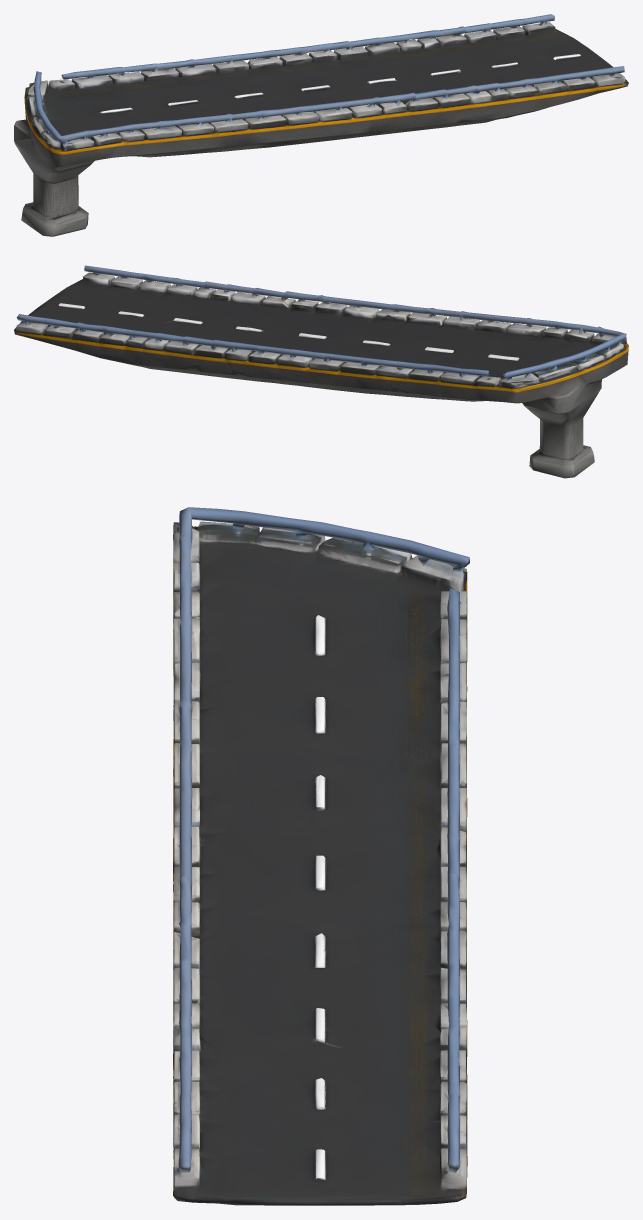
File: 2laneramp.glb
3 renders of one model, top to bottom at view 1: azimuth 30°, elevation 25°; view 2: azimuth 150°, elevation 25°; view 3: azimuth 270°, elevation 25°, orthographic. The views are drawn at different scales.
Parts seen in each view (by area): view 1: tripo_node_a6b66717-0aca-4851-b4fd-0be7c3f330a5; view 2: tripo_node_a6b66717-0aca-4851-b4fd-0be7c3f330a5; view 3: tripo_node_a6b66717-0aca-4851-b4fd-0be7c3f330a5.
Part boxes in pixels (<box>): tripo_node_a6b66717-0aca-4851-b4fd-0be7c3f330a5: <box>14,14,628,236</box>; tripo_node_a6b66717-0aca-4851-b4fd-0be7c3f330a5: <box>14,265,628,478</box>; tripo_node_a6b66717-0aca-4851-b4fd-0be7c3f330a5: <box>173,507,469,1205</box>.
Size of the model in its own units: 1 by 0.1978 by 0.2327.
Materials: 1 (1 with a texture image).
